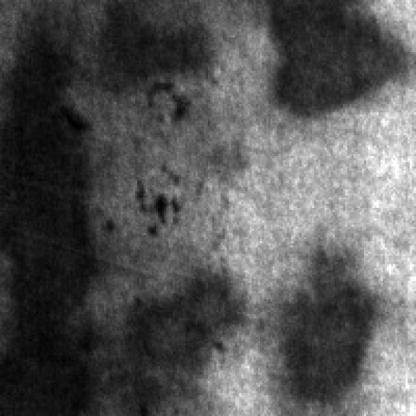patches: (2, 19, 98, 412), (124, 262, 248, 400), (273, 0, 408, 114), (283, 244, 376, 398), (98, 0, 214, 85)
